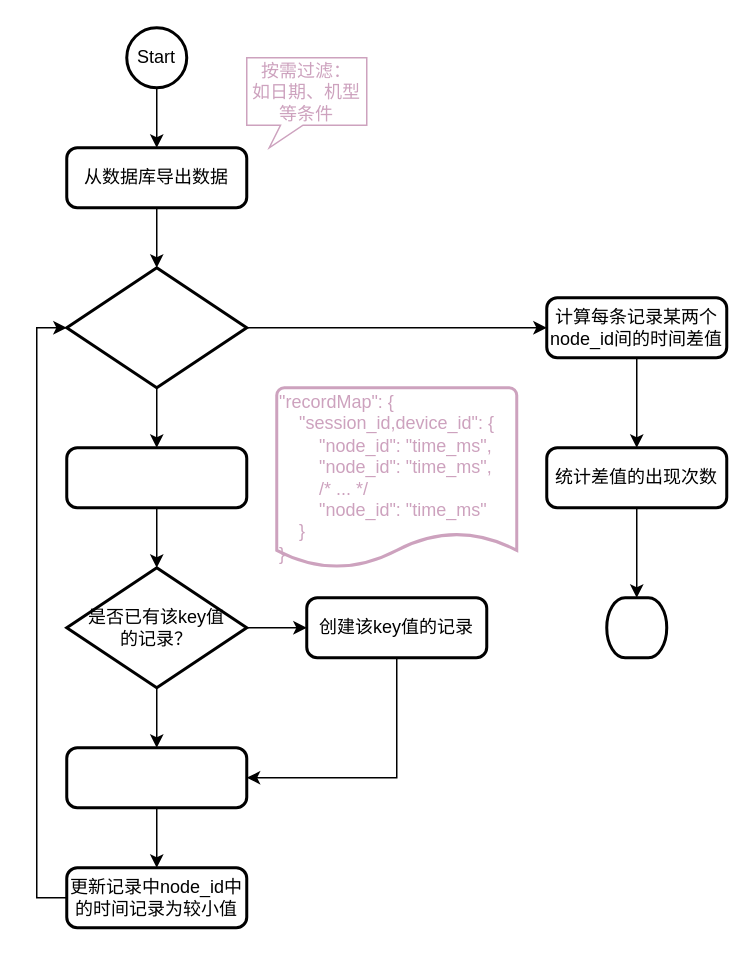
This 755x954 diagram has some shape labels left out. Each missing label, with the box of its shape:
End: (604, 596, 668, 658)
以session_id和device_id作为key: (64, 446, 248, 508)
拿到数据的node_id和time_ms: (64, 746, 248, 808)
遍历数据: (64, 266, 248, 388)
